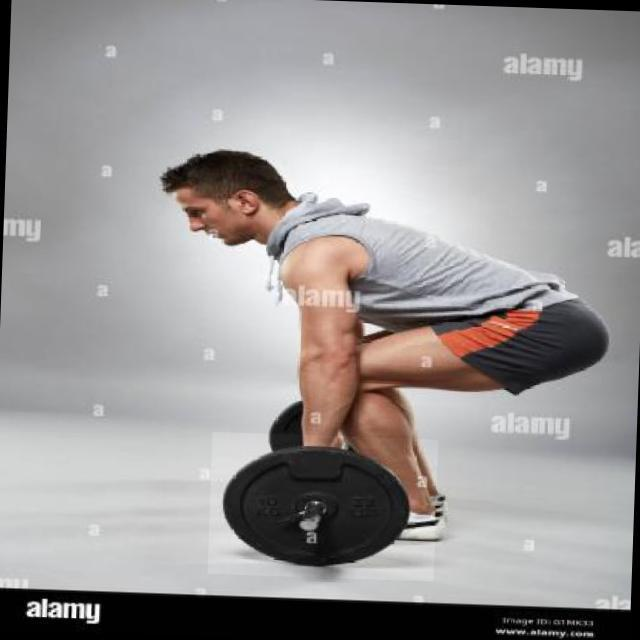barbell: (208, 432, 439, 582)
